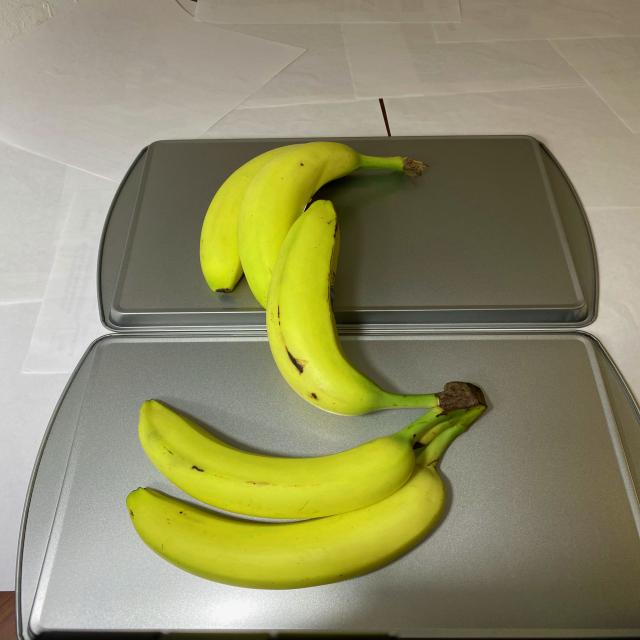Banana: (114, 144, 486, 596)
